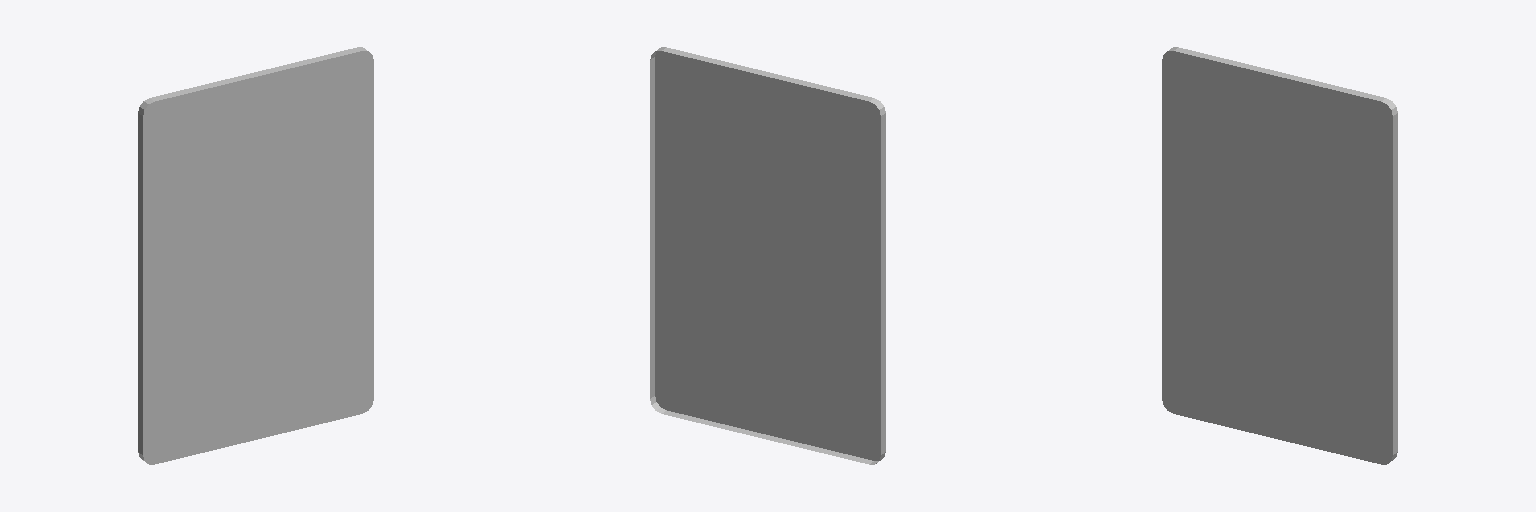
The model's file is CardFront.obj.
3 views of the same model, side by side, from view 1: azimuth 30°, elevation 25°; view 2: azimuth 150°, elevation 25°; view 3: azimuth 330°, elevation 25° (orthographic).
Visible parts, largest first — view 1: CardFront pCube1; view 2: CardFront pCube1; view 3: CardFront pCube1.
Boxes of the visible parts, box(x1,y1,x2,y2) form: CardFront pCube1: box(138, 47, 373, 464); CardFront pCube1: box(650, 47, 885, 464); CardFront pCube1: box(1162, 47, 1397, 464).
Size of the model in its own units: 0.0942 by 0.1415 by 0.0035.